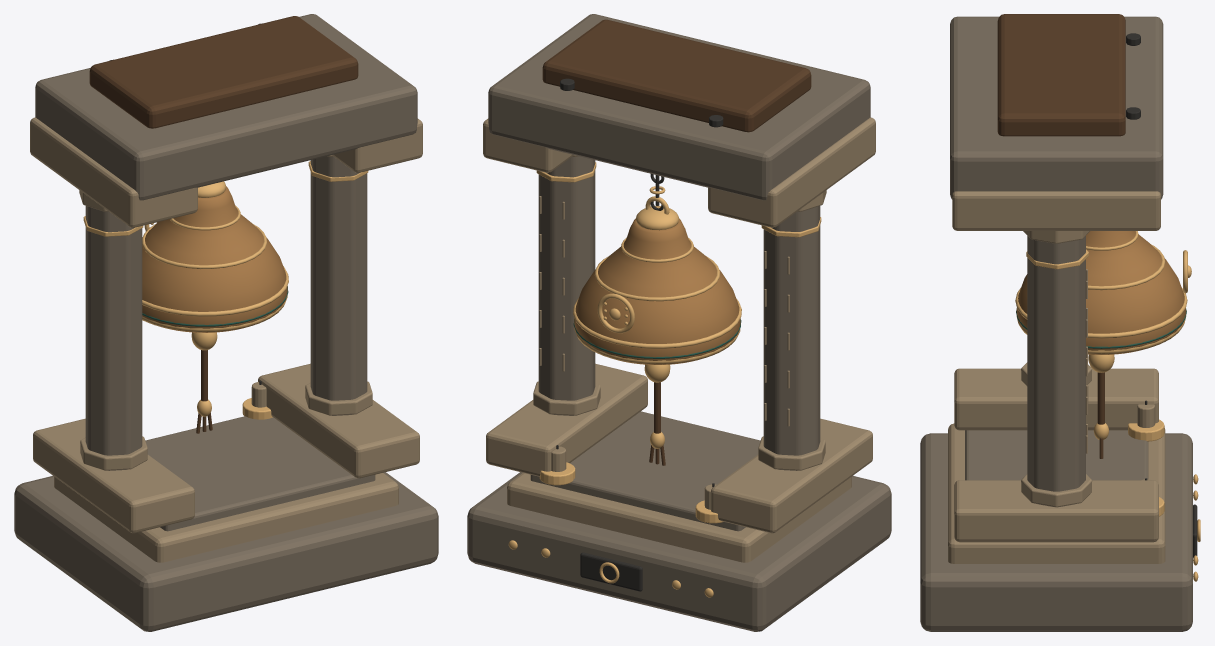
Rendered from sino_ritualistico.glb.
3 renders of one model, left to right at view 1: azimuth 30°, elevation 25°; view 2: azimuth 150°, elevation 25°; view 3: azimuth 270°, elevation 25°, orthographic.
Parts seen in each view (by area): view 1: Ritual bell - Temple Stone, Ritual bell - Temple Stone highlights, Ritual bell - Dark Wood, Hollow cast bronze bell, Ritual bell - Polished Bronze wear, Cast bronze bell band.001, Cast bronze bell band.002, Cast bronze bell band; view 2: Ritual bell - Temple Stone, Ritual bell - Temple Stone highlights, Ritual bell - Dark Wood, Hollow cast bronze bell, Ritual bell - Polished Bronze wear, Ritual bell - Blackened Iron, Cast bronze bell band.001, Bell crown boss, Cast bronze bell band.002, Cast bronze bell band; view 3: Ritual bell - Temple Stone, Ritual bell - Temple Stone highlights, Ritual bell - Dark Wood, Hollow cast bronze bell, Ritual bell - Polished Bronze wear, Cast bronze bell band.001, Ritual bell - Blackened Iron, Cast bronze bell band, Cast bronze bell band.002, Pull rope, Clapper striker.
Boxes of the visible parts, x1,y1,x2,y2 form: Ritual bell - Temple Stone: (14, 14, 438, 631); Ritual bell - Temple Stone highlights: (30, 117, 422, 562); Ritual bell - Dark Wood: (89, 16, 358, 128); Hollow cast bronze bell: (142, 186, 287, 332); Ritual bell - Polished Bronze wear: (83, 161, 368, 419); Cast bronze bell band.001: (142, 266, 288, 316); Cast bronze bell band.002: (142, 224, 266, 269); Cast bronze bell band: (142, 295, 287, 332); Ritual bell - Temple Stone: (467, 14, 891, 631); Ritual bell - Temple Stone highlights: (483, 117, 875, 562); Ritual bell - Dark Wood: (542, 19, 811, 132); Hollow cast bronze bell: (574, 218, 740, 364); Ritual bell - Polished Bronze wear: (508, 162, 821, 597); Ritual bell - Blackened Iron: (556, 78, 723, 591); Cast bronze bell band.001: (573, 298, 741, 348); Bell crown boss: (636, 206, 678, 230); Cast bronze bell band.002: (594, 256, 720, 301); Cast bronze bell band: (574, 327, 740, 364); Ritual bell - Temple Stone: (920, 16, 1192, 631); Ritual bell - Temple Stone highlights: (948, 191, 1165, 563); Ritual bell - Dark Wood: (997, 14, 1125, 136); Hollow cast bronze bell: (1016, 231, 1186, 354); Ritual bell - Polished Bronze wear: (1026, 249, 1200, 581); Cast bronze bell band.001: (1015, 287, 1187, 338); Ritual bell - Blackened Iron: (1126, 33, 1197, 557); Cast bronze bell band: (1016, 316, 1186, 354); Cast bronze bell band.002: (1088, 244, 1165, 290); Pull rope: (1097, 372, 1104, 424); Clapper striker: (1088, 354, 1114, 372).
Bounding box in the file's own units: 0.82 × 1.29 × 0.658.
